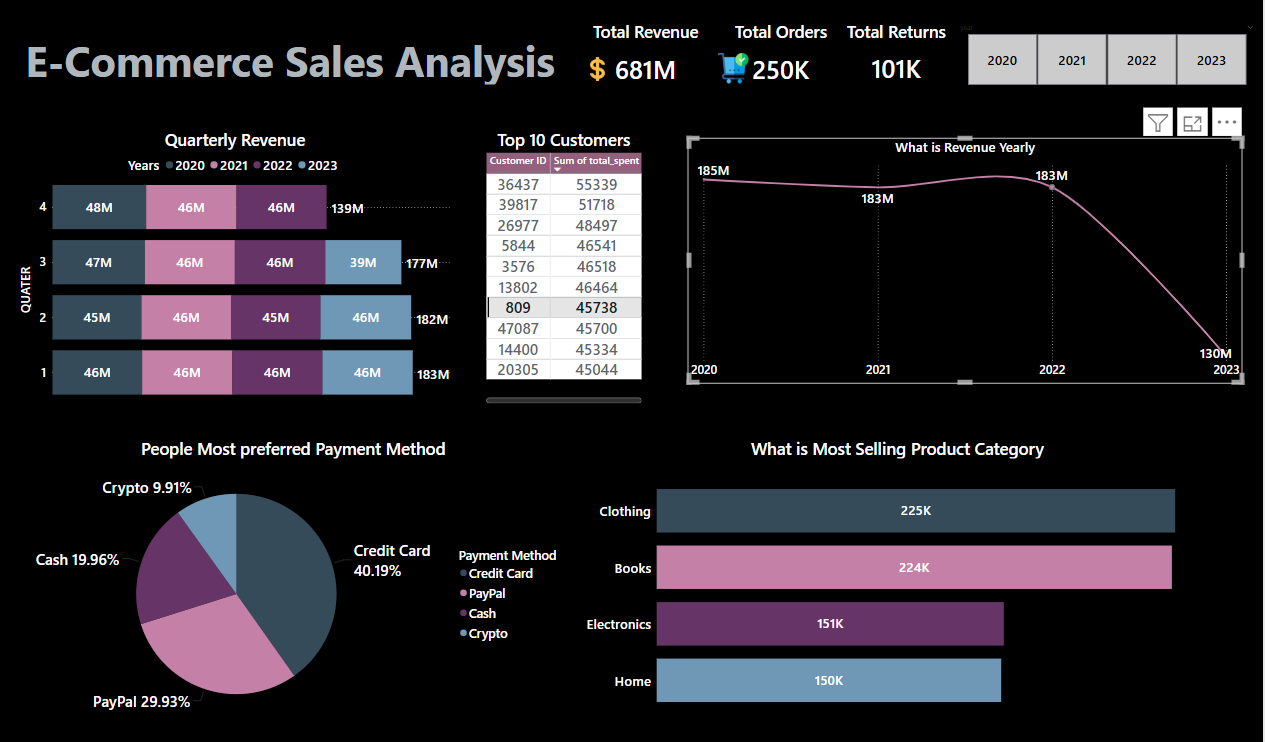

Layout of this report page (visuals, bound fields, positions):
{"tool":"powerbi","page":{"name":"Page 1","canvas":[2020,1250],"ordinal":0},"visuals":[{"type":"barChart","title":"Quarterly Revenue","fields":{"Category":["data-revenue_trend.quarter"],"Y":["Sum(data-revenue_trend.total_spent)"],"Series":["data-revenue_trend.years"]},"box":[25.1,213.6,699.6,446.1],"z":0},{"type":"tableEx","title":"Top 10 Customers","fields":{"Values":["top_10customers.Customer ID","Sum(top_10customers.total_spent)"]},"box":[772.9,213.6,259.7,446.1],"z":1000},{"type":"pieChart","title":"People Most preferred Payment Method","fields":{"Category":["contribution_payment_method.Payment Method"],"Y":["Sum(contribution_payment_method.pecentage_share)"]},"box":[18.9,707.9,913.2,441.9],"z":3000},{"type":"barChart","title":"What is Most Selling Product Category","fields":{"Category":["product-most_purchase.Product Category"],"Y":["Sum(product-most_purchase.total_qantity)"],"Series":["product-most_purchase.dense_rank"]},"box":[932.1,707.9,1087.1,441.9],"z":4000},{"type":"shape","box":[0,0,2020,194],"z":5000},{"type":"card","title":"Total Revenue","fields":{"Values":["Sum(monthly_revenue_trend.sum)"]},"box":[921.6,41.9,222,121.5],"z":6000},{"type":"card","title":"Total Orders","fields":{"Values":["Sum(contribution_payment_method.total_orders)"]},"box":[1133.1,41.9,230.4,121.5],"z":7000},{"type":"shape","box":[14.7,48.2,906.9,108.9],"z":8000},{"type":"image","box":[932.1,75.4,48.2,88],"z":9000},{"type":"image","box":[1143.6,83.8,58.6,69.1],"z":10000},{"type":"card","title":"Total Returns","fields":{"Values":["Sum(total_returns.total_returns)"]},"box":[1346.8,41.9,175.9,119.4],"z":11000},{"type":"lineChart","title":"What is  Revenue Yearly","fields":{"Category":["revenue by year.year"],"Y":["Sum(revenue by year.revenue)"]},"box":[1099.6,230.4,888.1,393.8],"z":12000},{"type":"slicer","fields":{"Values":["revenue by year.year"]},"box":[1522.7,41.9,496.4,111],"z":13000},{"type":"shape","box":[73.3,599,1872.5,171.8],"z":13001}]}

Visuals, with their boxes in screenshot pixels (x1, y1, x2, y2):
"Quarterly Revenue" barChart: <bbox>133, 170, 527, 422</bbox>
"Top 10 Customers" tableEx: <bbox>555, 170, 701, 422</bbox>
"People Most preferred Payment Method" pieChart: <bbox>129, 449, 644, 698</bbox>
"What is Most Selling Product Category" barChart: <bbox>644, 449, 1257, 698</bbox>
shape: <bbox>119, 49, 1258, 159</bbox>
"Total Revenue" card: <bbox>638, 73, 764, 142</bbox>
"Total Orders" card: <bbox>758, 73, 888, 142</bbox>
shape: <bbox>127, 77, 638, 138</bbox>
image: <bbox>644, 92, 672, 142</bbox>
image: <bbox>764, 97, 797, 136</bbox>
"Total Returns" card: <bbox>878, 73, 977, 140</bbox>
"What is  Revenue Yearly" lineChart: <bbox>739, 179, 1240, 401</bbox>
slicer - revenue by year.year: <bbox>977, 73, 1257, 136</bbox>
shape: <bbox>160, 387, 1216, 484</bbox>
